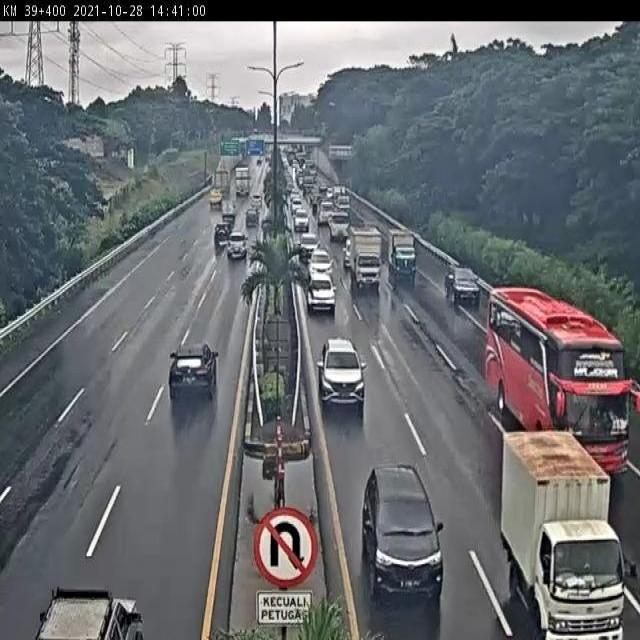big bus: (485, 286, 631, 478)
car: (359, 464, 447, 601), (316, 336, 365, 409), (167, 342, 217, 402), (445, 263, 483, 305), (304, 271, 334, 313)
mid truck: (502, 426, 629, 640), (350, 224, 383, 289), (386, 225, 416, 278), (308, 247, 334, 277)
